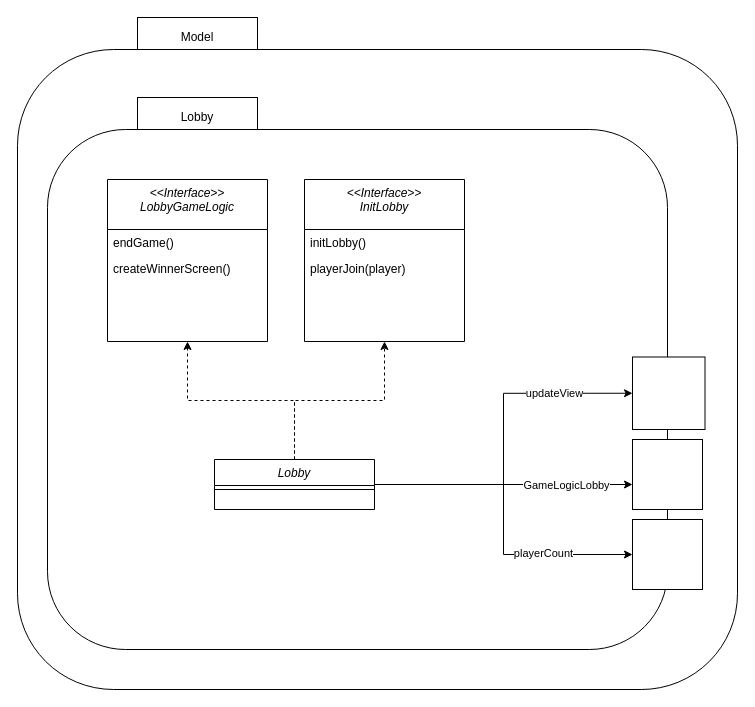
This 755x707 diagram has some shape labels left out. The centre of each missing label's shape, as x and y in pixels:
"config" belongs at pixel 667 554.
"GameLogic" belongs at pixel 667 474.
"Screens" belongs at pixel 668 393.
